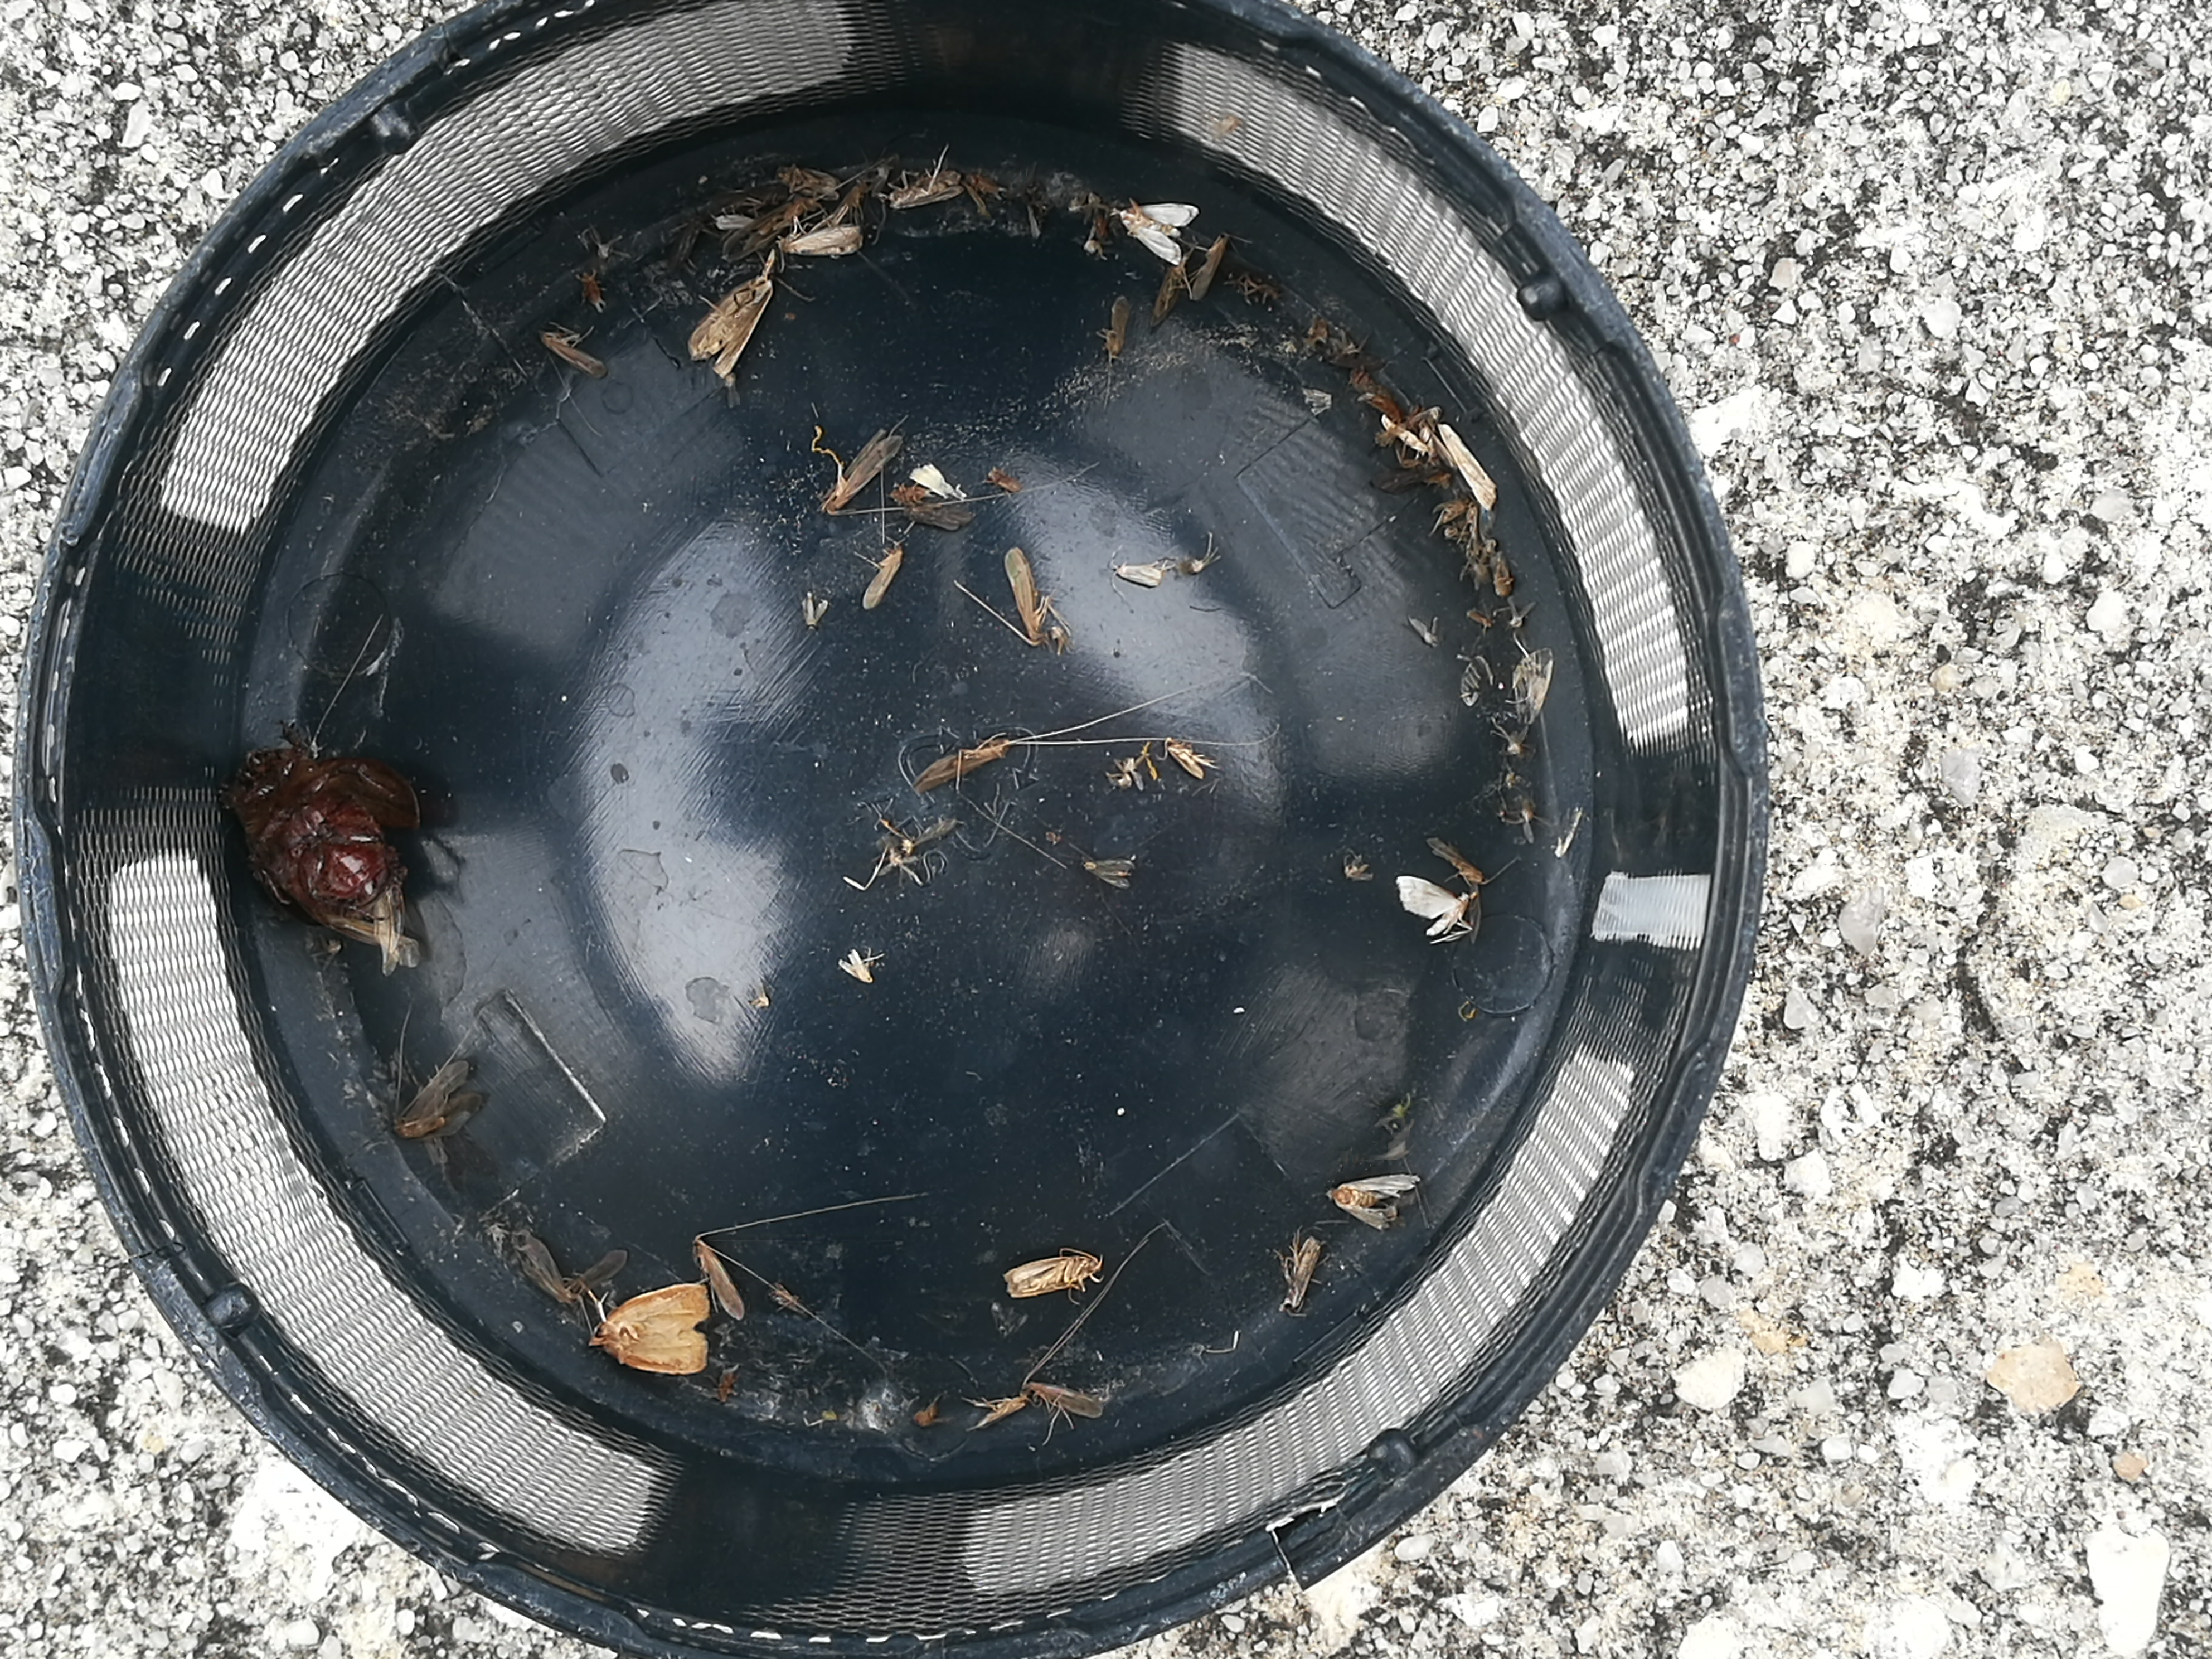beetle: (237, 751, 387, 908)
mosquito: (822, 432, 900, 512), (913, 741, 1010, 793), (697, 1237, 749, 1321), (1003, 1255, 1099, 1297), (1005, 549, 1042, 645), (1022, 1382, 1103, 1420), (536, 335, 604, 375), (867, 542, 906, 606), (1195, 230, 1228, 296), (784, 228, 860, 256), (777, 167, 840, 199), (1291, 1239, 1317, 1310), (1106, 296, 1125, 359)
moth: (599, 1284, 709, 1375), (691, 277, 770, 375), (394, 1065, 489, 1141), (1397, 878, 1472, 945), (1329, 1175, 1423, 1223), (1120, 204, 1197, 260)
